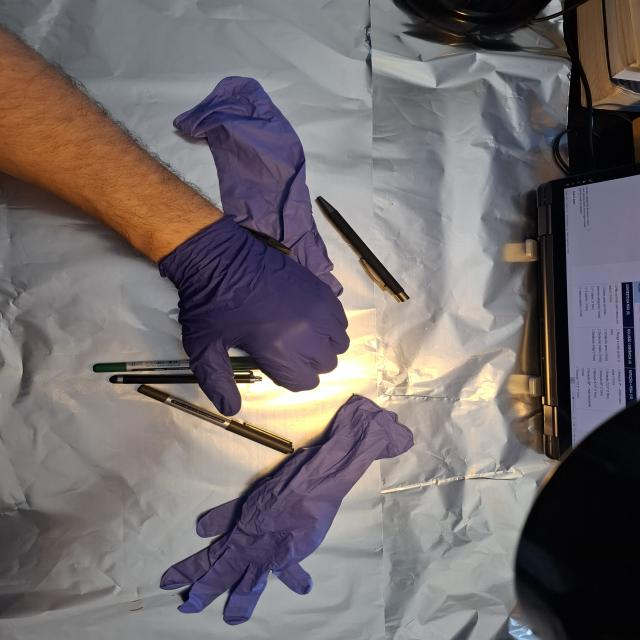glove_on: (171, 224, 355, 419)
